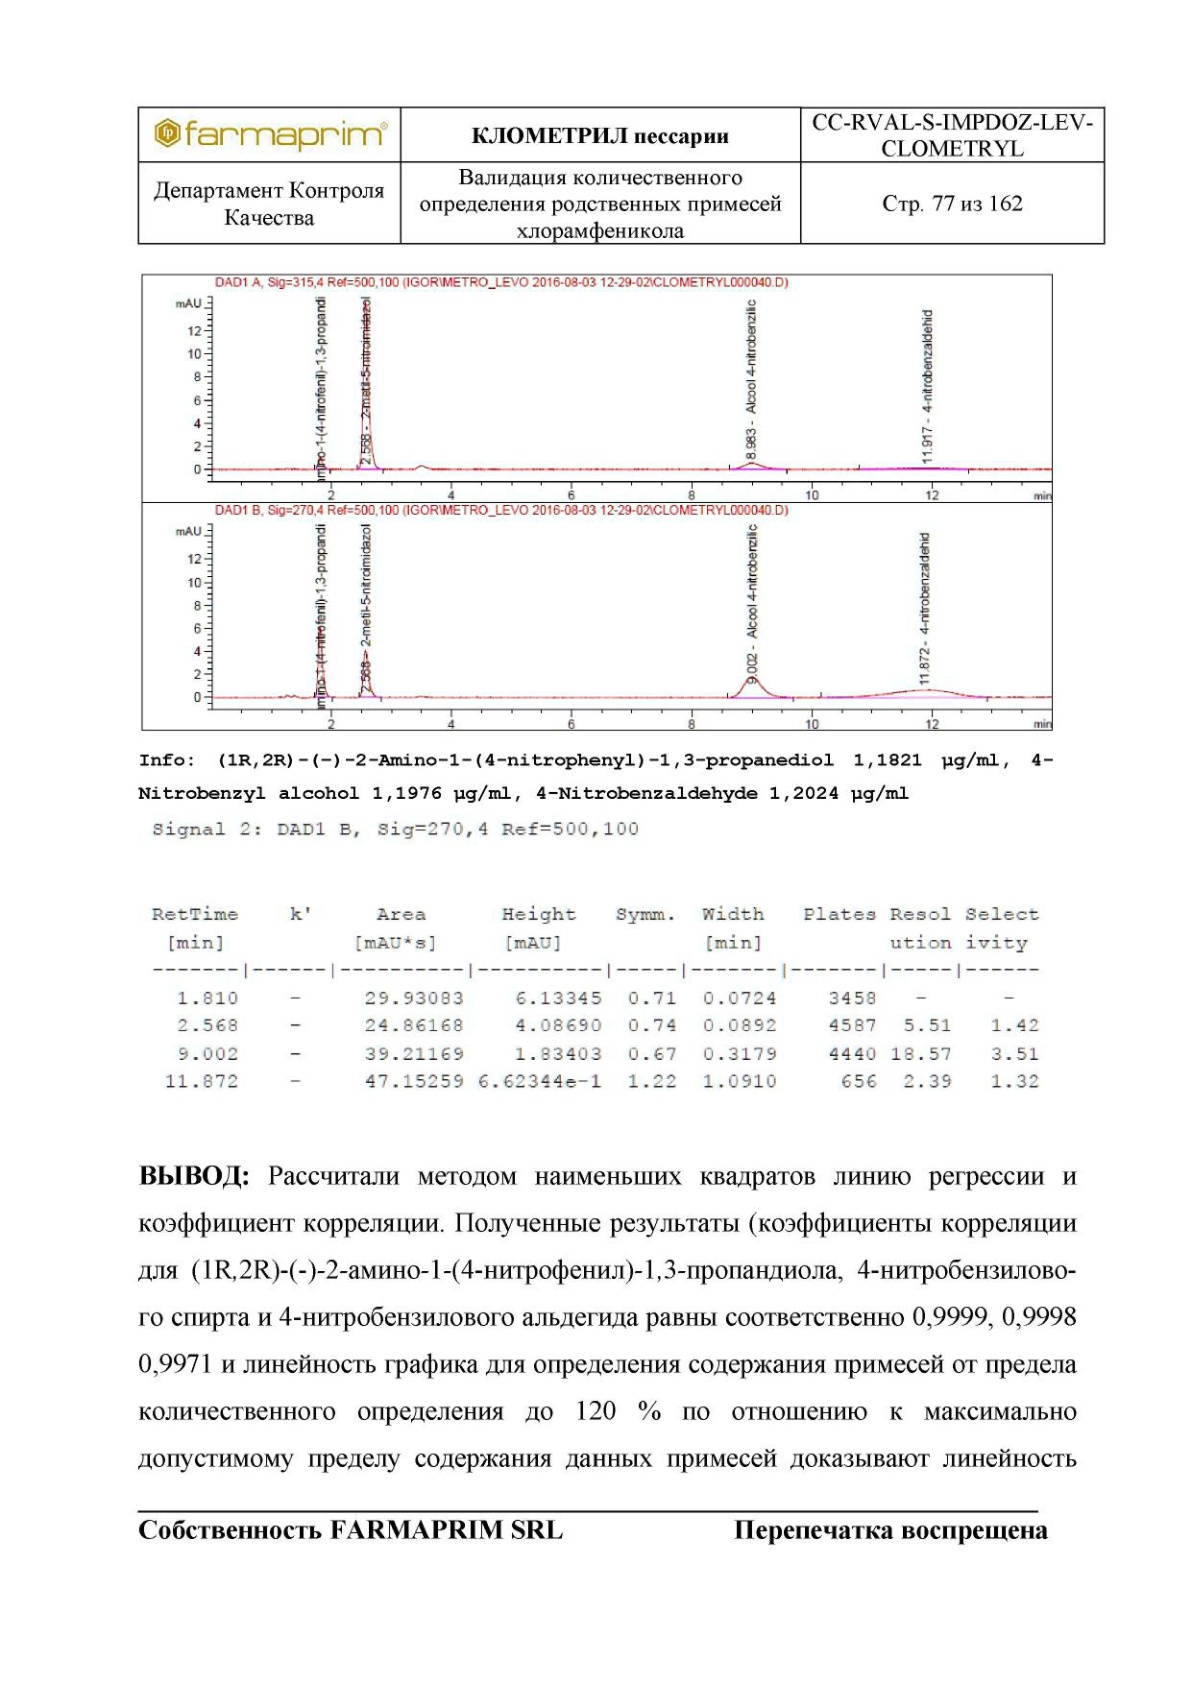full_lined: (135, 103, 1108, 245)
partial_lined: (148, 903, 1045, 1095)
